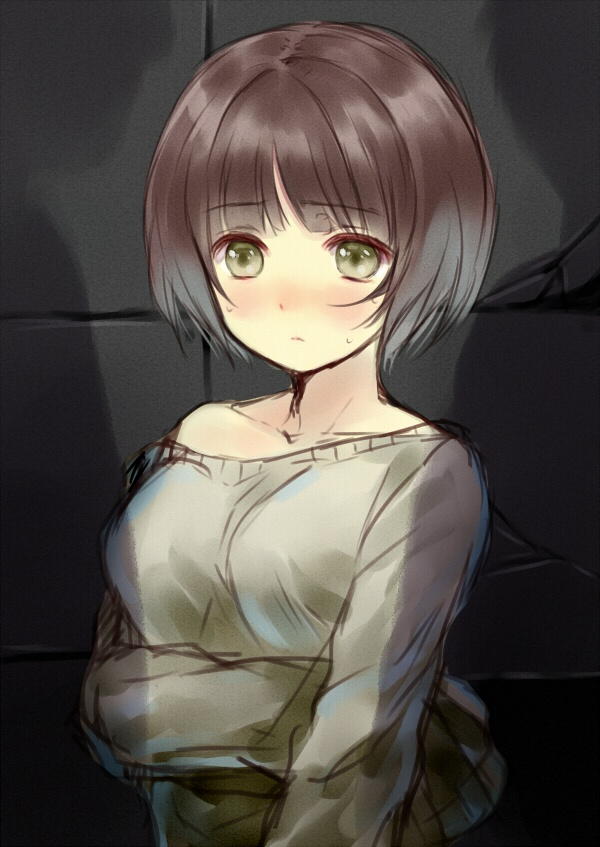纸片人正脸: (136, 17, 483, 384)
